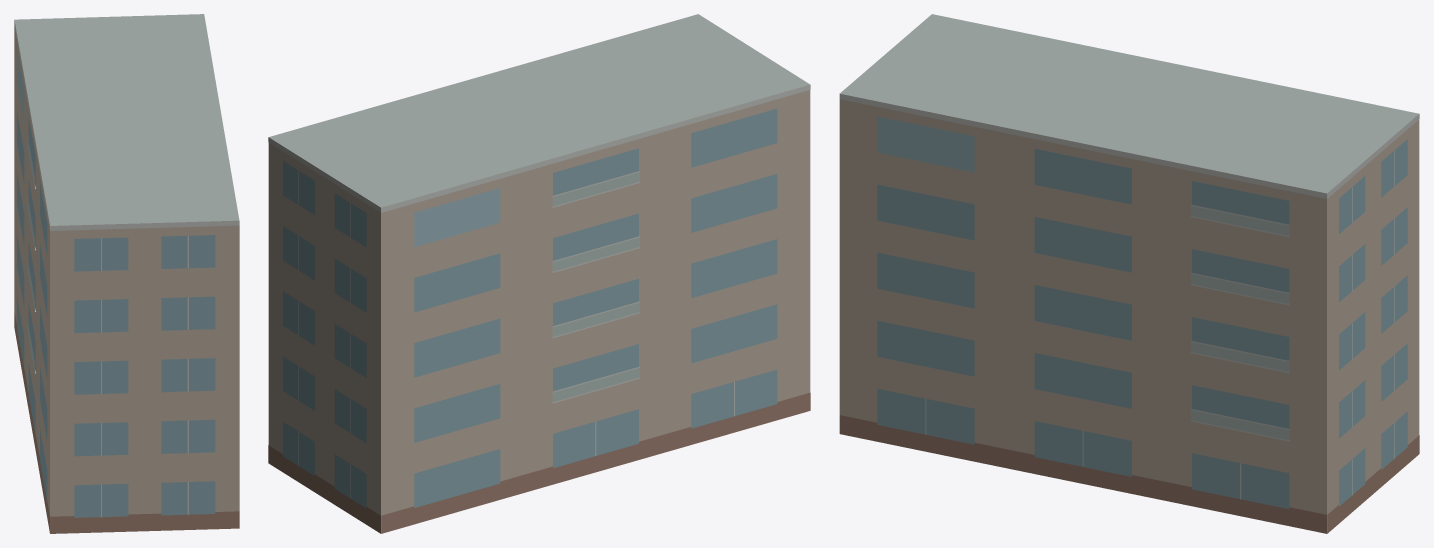
Rendered from survey-upis-32524638.glb.
The picture shows the model from 3 angles, left to right: view 1: azimuth 30°, elevation 25°; view 2: azimuth 150°, elevation 25°; view 3: azimuth 270°, elevation 25°; orthographic projection. The views are drawn at different scales.
Visible parts, largest first — view 1: survey-upis-32524638.tmp; view 2: survey-upis-32524638.tmp; view 3: survey-upis-32524638.tmp.
Part boxes in pixels (x1,y1,x2,y2): survey-upis-32524638.tmp: [14, 14, 239, 533]; survey-upis-32524638.tmp: [268, 14, 810, 533]; survey-upis-32524638.tmp: [839, 14, 1419, 533].
Bounding box in the file's own units: 17.26 × 15.25 × 23.55.
